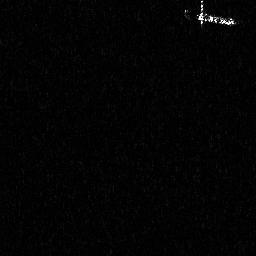ship: (182, 1, 238, 29)
